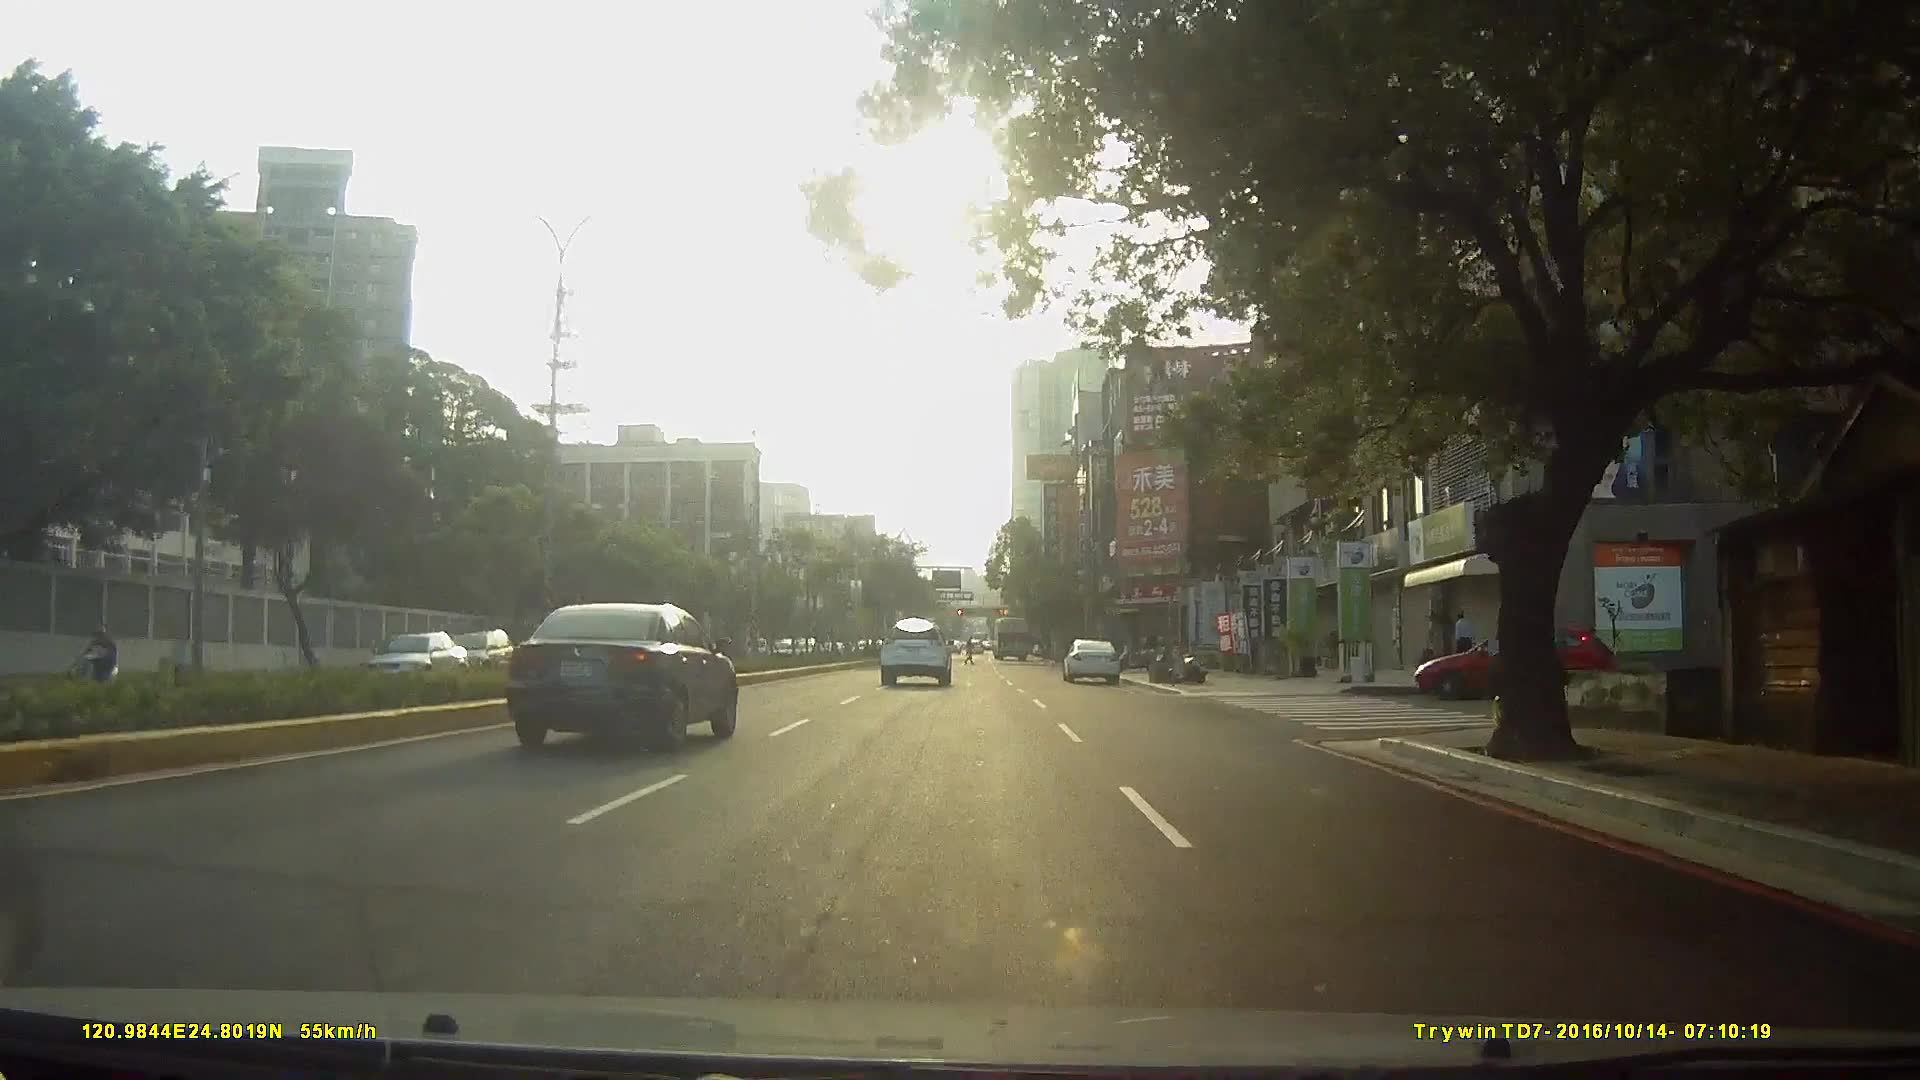pedestrian: (1453, 613, 1476, 681)
rider: (71, 621, 124, 697)
vehicle: (512, 601, 744, 748), (1411, 615, 1630, 705), (358, 624, 480, 695), (880, 618, 954, 686), (443, 614, 520, 667), (1061, 637, 1124, 683), (989, 614, 1033, 661)
